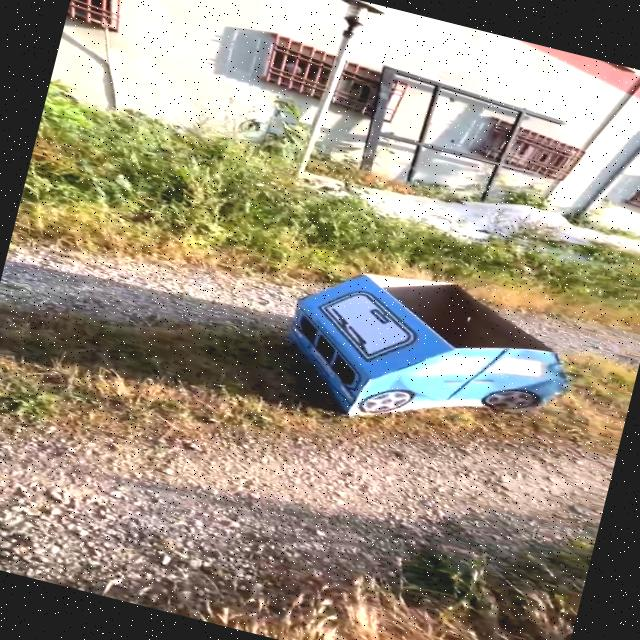blue_car: (218, 219, 617, 482)
